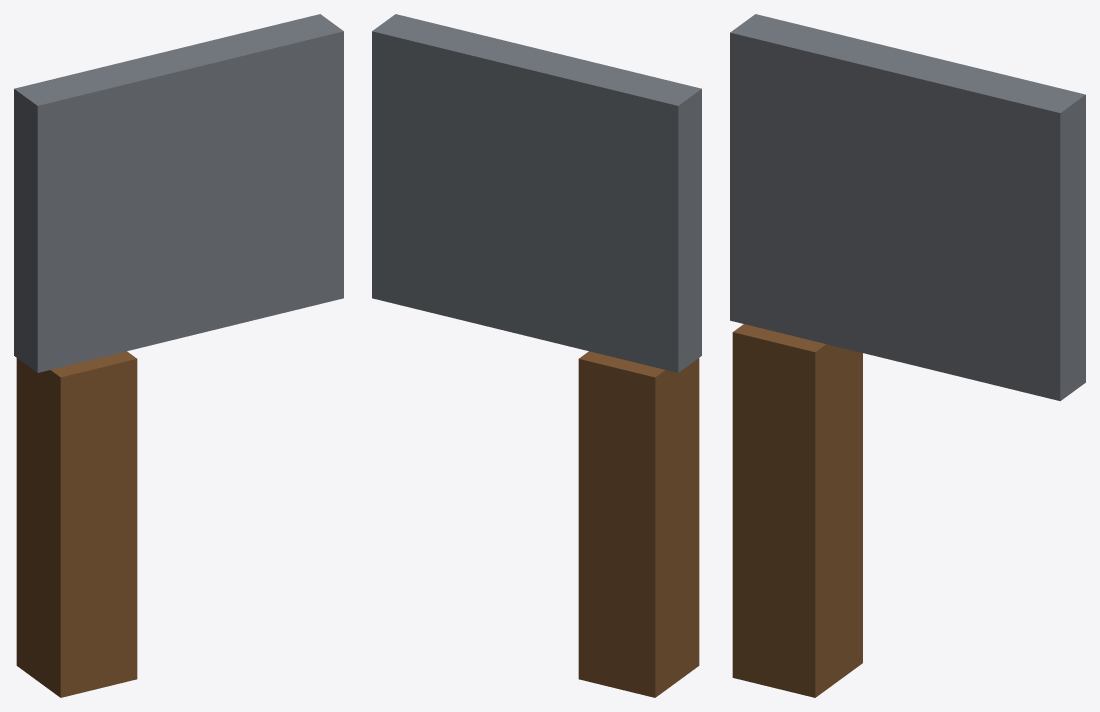
File: good_20.glb
3 views of the same model, side by side, from view 1: azimuth 30°, elevation 25°; view 2: azimuth 150°, elevation 25°; view 3: azimuth 330°, elevation 25° (orthographic). The views are drawn at different scales.
Parts seen in each view (by area): view 1: good_20; view 2: good_20; view 3: good_20.
Boxes of the visible parts, x1=… form: good_20: x1=14, y1=14, x2=343, y2=697; good_20: x1=372, y1=14, x2=701, y2=697; good_20: x1=730, y1=14, x2=1085, y2=697.
Bounding box in the file's own units: 0.06 × 0.11 × 0.015.
